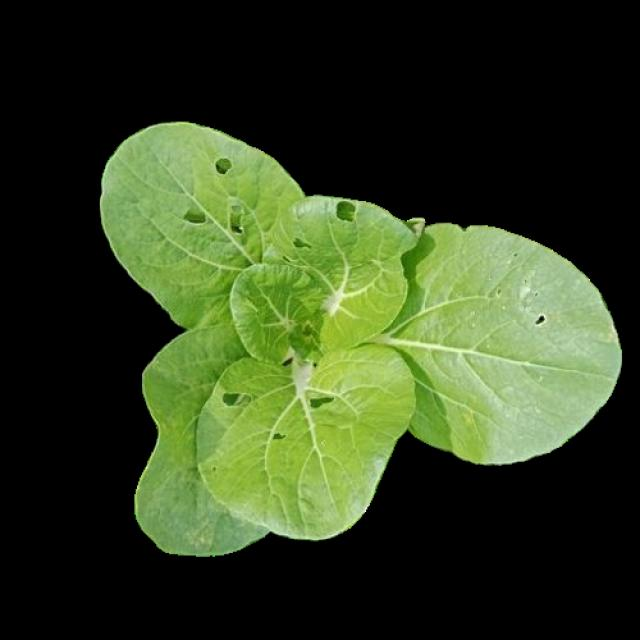mature: (102, 123, 617, 553)
unhealthy: (394, 223, 617, 462), (198, 353, 418, 529), (104, 124, 292, 321), (228, 200, 418, 350)
